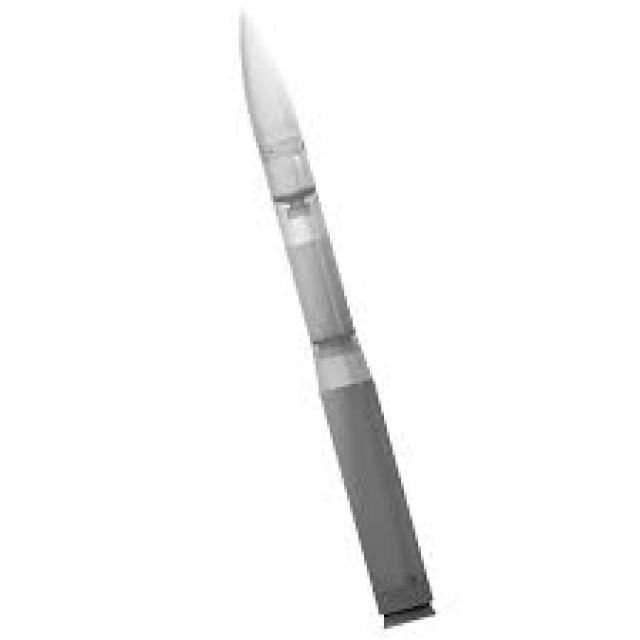missile: (229, 0, 439, 640)
